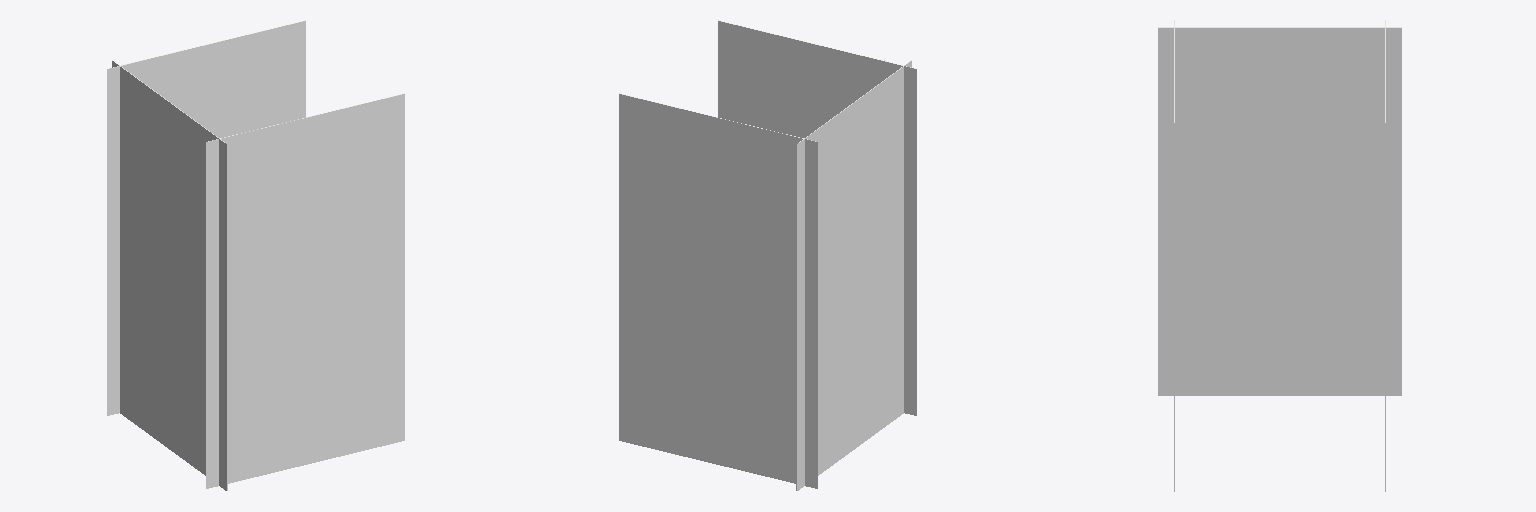
URDF robot description (wall.urdf):
<?xml version="1.0" ?>
<robot name="wall.urdf">
  <material name="black">
    <color rgba="0.180 0.251 0.325 1"/>
  </material>
  <link name="baseLink">
    <contact>
      <lateral_friction value="1.0"/>
      <inertia_scaling value="3.0"/>
    </contact>
    <inertial>
      <origin rpy="0 0 0" xyz="0 0 0"/>
       <mass value="10"/>
       <inertia ixx="1" ixy="0" ixz="0" iyy="1" iyz="0" izz="1"/>
    </inertial>

    <visual>
      <origin rpy="0 0 0" xyz="-1.30 0 0.3"/>
      <geometry>
				<mesh filename="wall.obj" scale="0.01 3.0 5.0"/>
      </geometry>
       <material name="white">
        <color rgba="1 1 1 1"/>
      </material>
    </visual>
    <visual>
      <origin rpy="0 0 0" xyz="0 1.30 0.3"/>
      <geometry>
				<mesh filename="wall.obj" scale="3.0 0.01 5.0"/>
      </geometry>
       <material name="white">
        <color rgba="1 1 1 1"/>
      </material>
    </visual>
    <visual>
      <origin rpy="0 0 0" xyz="0 -1.30 0.3"/>
      <geometry>
				<mesh filename="wall.obj" scale="3.0 0.01 5.0"/>
      </geometry>
       <material name="white">
        <color rgba="1 1 1 1"/>
      </material>
    </visual>

  </link>
</robot>

--- Facts derived from the render (not from the file) ---
Views: 3 orthographic renders of the robot side by side, from view 1: azimuth 30°, elevation 25°; view 2: azimuth 150°, elevation 25°; view 3: azimuth 270°, elevation 25°.
Model wall.urdf with 1 links and 0 joints (none), rooted at baseLink, posed every joint at zero.
Visible links, largest first — view 1: baseLink; view 2: baseLink; view 3: baseLink.
Boxes of the visible links, left/top/right/bottom form: baseLink: left=107, top=20, right=404, bottom=490; baseLink: left=619, top=20, right=916, bottom=490; baseLink: left=1158, top=20, right=1401, bottom=491.
Size in the robot's own frame: 3 by 3 by 5 metres.
Meshes: 1 distinct files referenced, 3 mesh visuals loaded (1 OBJ).